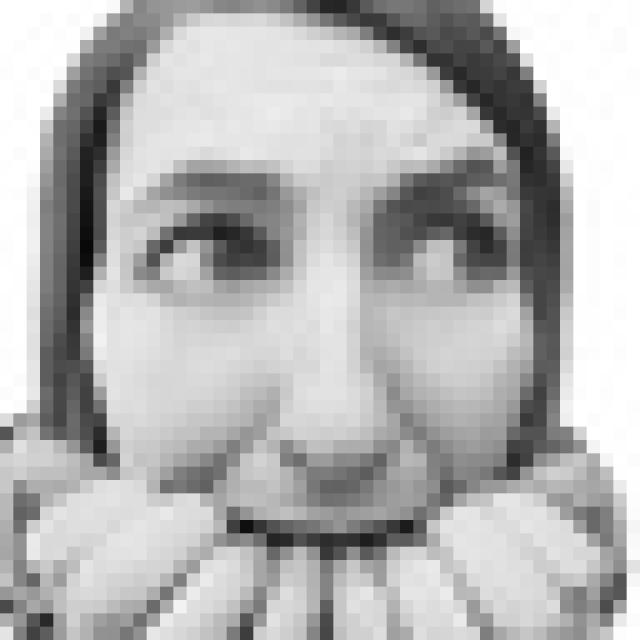fear: (130, 152, 521, 593)
